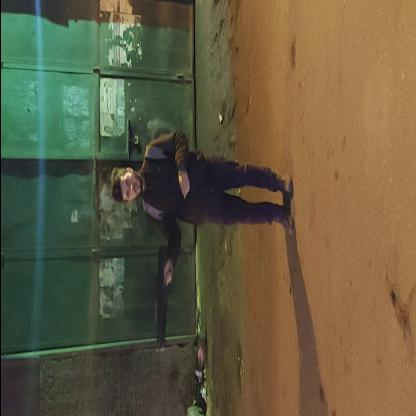long weapon: (149, 235, 176, 357)
